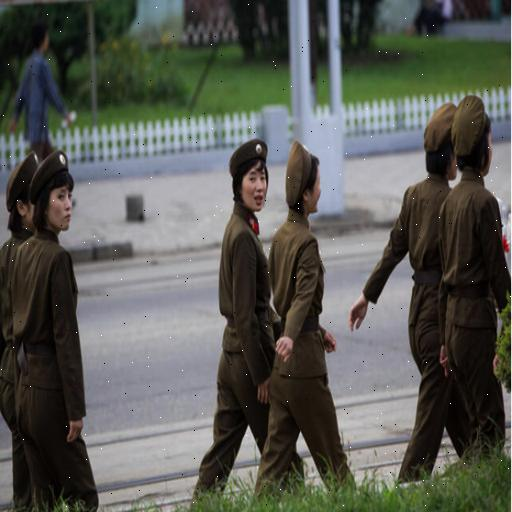north army: (178, 121, 385, 511), (2, 115, 148, 512), (369, 79, 512, 480)
